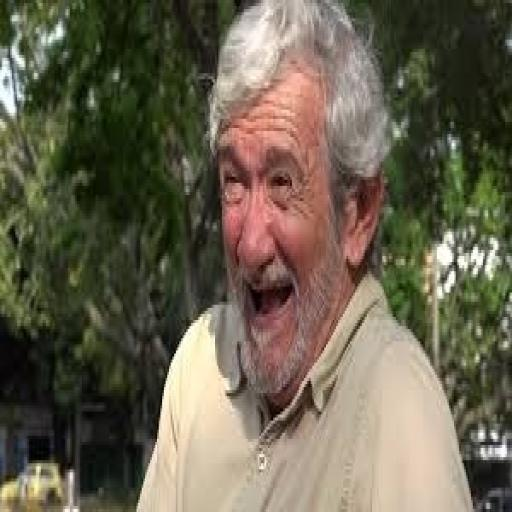laughing: (126, 3, 474, 503)
